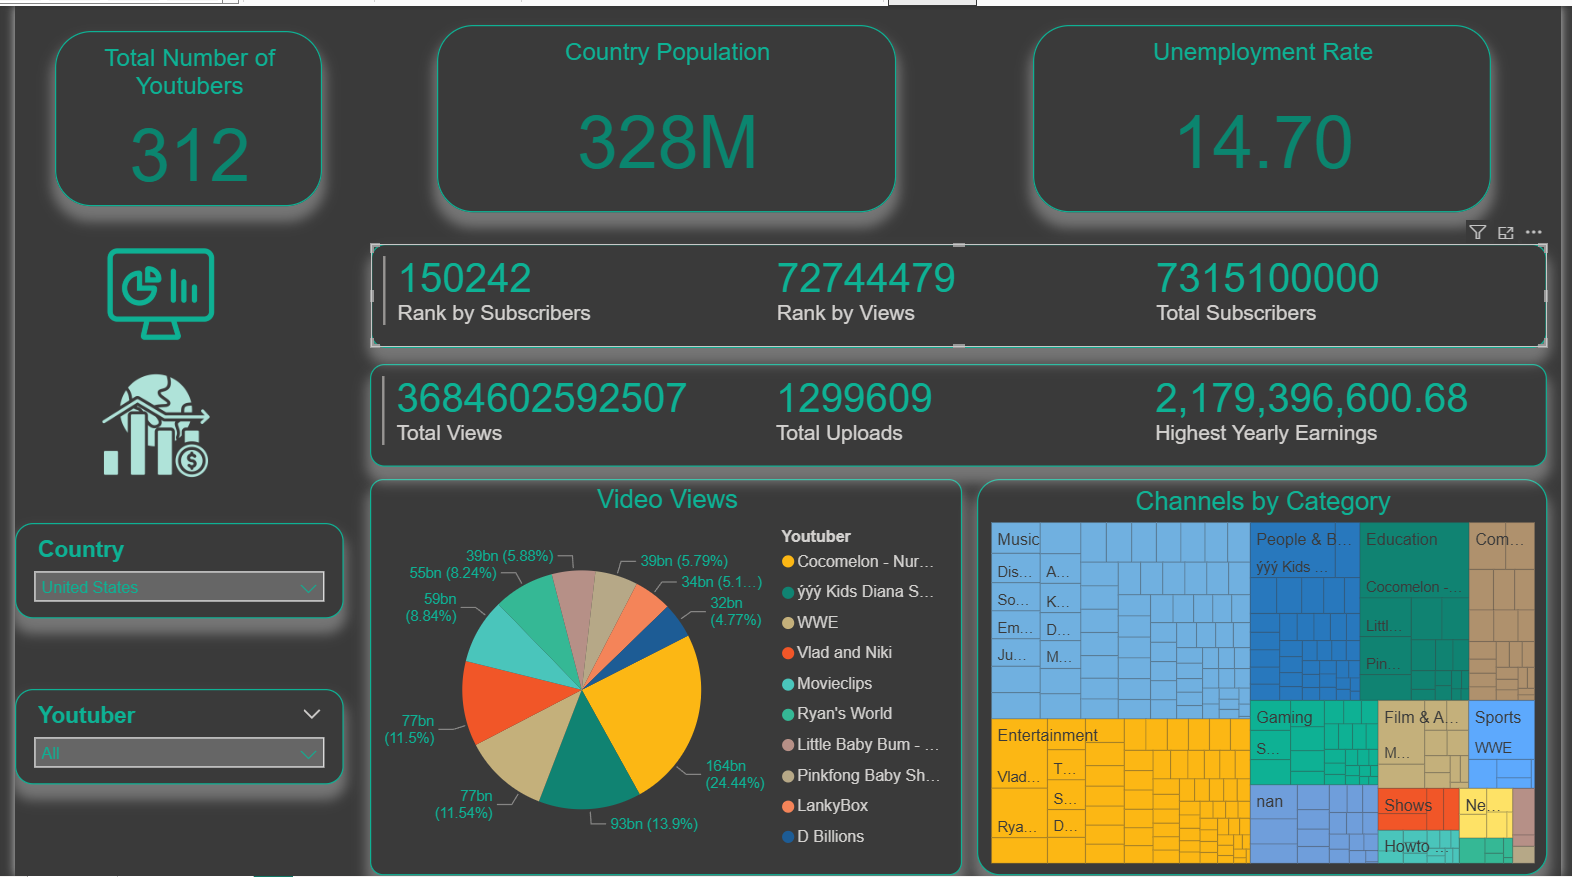

This screenshot's page, from the dashboard's own definition file:
{"tool":"powerbi","page":{"name":"Country Statistics","canvas":[1280,720],"ordinal":1},"visuals":[{"type":"pieChart","title":"Video Views ","fields":{"Category":["Global YouTube Statistics.Youtuber"],"Y":["Global YouTube Statistics.video views"],"Series":["Global YouTube Statistics.rank"]},"box":[294.1,391.8,490.5,328],"z":0},{"type":"image","box":[45,180,152,116],"z":1000},{"type":"image","box":[45,296,143,102.2],"z":2000},{"type":"slicer","fields":{"Values":["Global YouTube Statistics.Country"]},"box":[0,428.2,271.5,78.9],"z":3000},{"type":"slicer","fields":{"Values":["Global YouTube Statistics.Youtuber"]},"box":[0,565.6,271.5,78.9],"z":4000},{"type":"card","title":"Total Number of Youtubers","fields":{"Values":["Global YouTube Statistics.Youtuber"]},"box":[33,20.6,220.9,144.5],"z":5000},{"type":"card","title":"Country Population","fields":{"Values":["Global YouTube Statistics.Population"]},"box":[348.9,15.5,379.9,154.8],"z":6000},{"type":"treemap","title":"Channels by Category ","fields":{"Group":["Global YouTube Statistics.category"],"Details":["Global YouTube Statistics.Youtuber"],"Values":["Global YouTube Statistics.video views"]},"box":[796.5,391.8,471.5,328],"z":7000},{"type":"multiRowCard","fields":{"Values":["Global YouTube Statistics.rank","Global YouTube Statistics.video_views_rank","Global YouTube Statistics.subscribers"]},"box":[294.5,196.7,973.5,85.9],"z":8000},{"type":"multiRowCard","fields":{"Values":["Global YouTube Statistics.video views","Global YouTube Statistics.uploads","Global YouTube Statistics.highest_yearly_earnings"]},"box":[294.5,291.5,973.5,84.9],"z":9000},{"type":"card","title":"Unemployment Rate","fields":{"Values":["Global YouTube Statistics.Unemployment rate"]},"box":[842.3,15.5,378.8,154.8],"z":10000}]}

Visuals, with their boxes in screenshot pixels (x1, y1, x2, y2), scaled from the page's 1280x720 canvas onto the 1572x877 screenshot:
"Video Views " pieChart: 361, 477, 964, 876
image: 55, 219, 242, 361
image: 55, 361, 231, 485
slicer - Global YouTube Statistics.Country: 0, 522, 333, 618
slicer - Global YouTube Statistics.Youtuber: 0, 689, 333, 785
"Total Number of Youtubers" card: 41, 25, 312, 201
"Country Population" card: 428, 19, 895, 207
"Channels by Category " treemap: 978, 477, 1557, 876
multiRowCard - Global YouTube Statistics.rank x Global YouTube Statistics.video_views_rank: 362, 240, 1557, 344
multiRowCard - Global YouTube Statistics.video views x Global YouTube Statistics.uploads: 362, 355, 1557, 458
"Unemployment Rate" card: 1034, 19, 1500, 207
